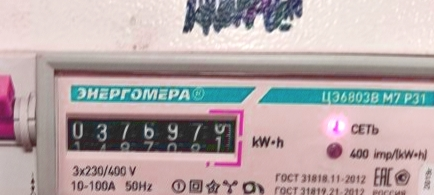0: (70, 119, 83, 139)
1: (212, 134, 223, 152)
3: (94, 121, 107, 141)
6: (141, 118, 154, 139)
7: (117, 119, 130, 140), (189, 120, 201, 142)
9: (165, 120, 177, 141)
screen: (57, 104, 247, 167)
